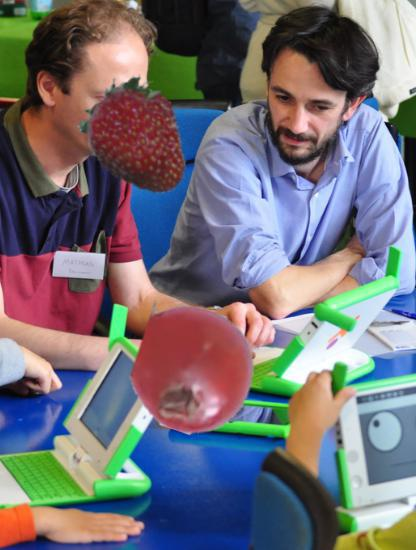Redcurrant: (132, 309, 256, 433)
Strawberry: (79, 74, 203, 198)
